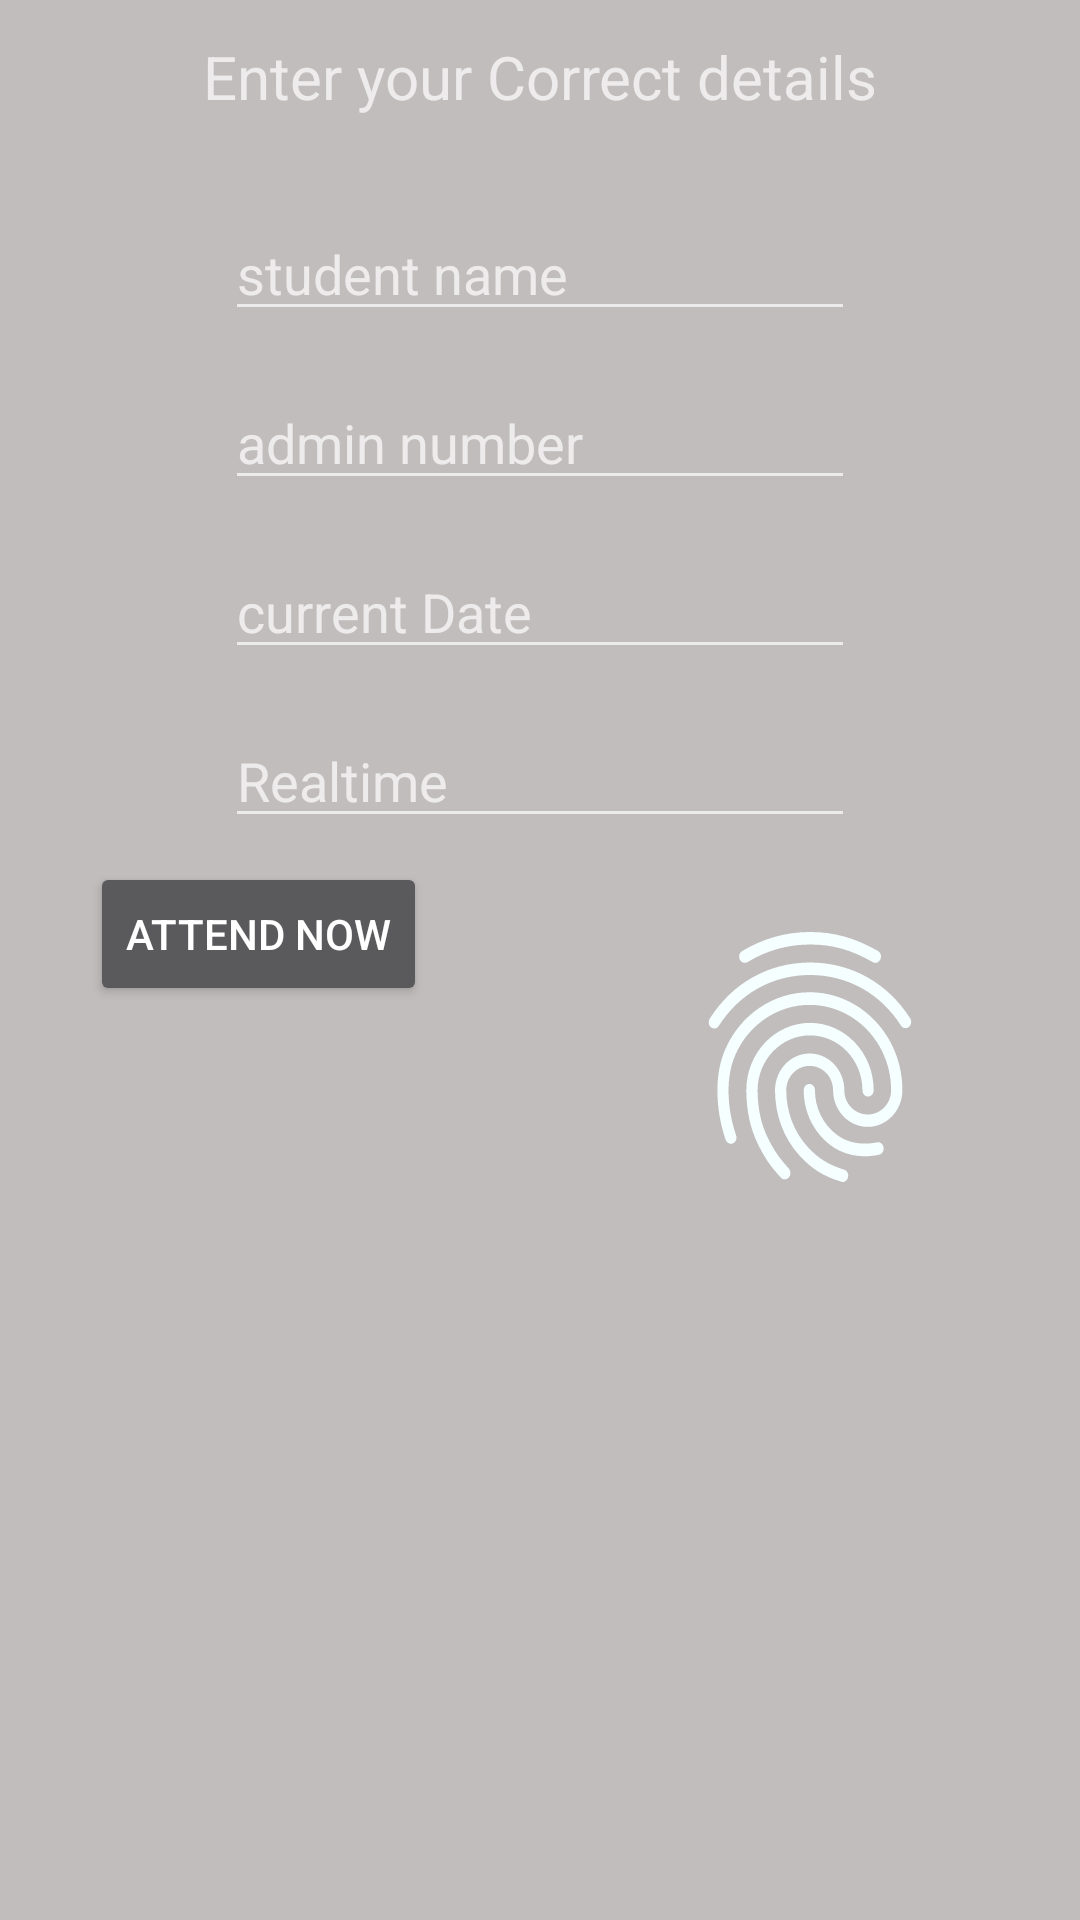

Locate icon controls on the screen. Image size 1080w x 1920h, boxes as (x1=x1, y1=y1, x2=x2, y2=y2).
fingerprint: (x1=709, y1=932, x2=911, y2=1182)
